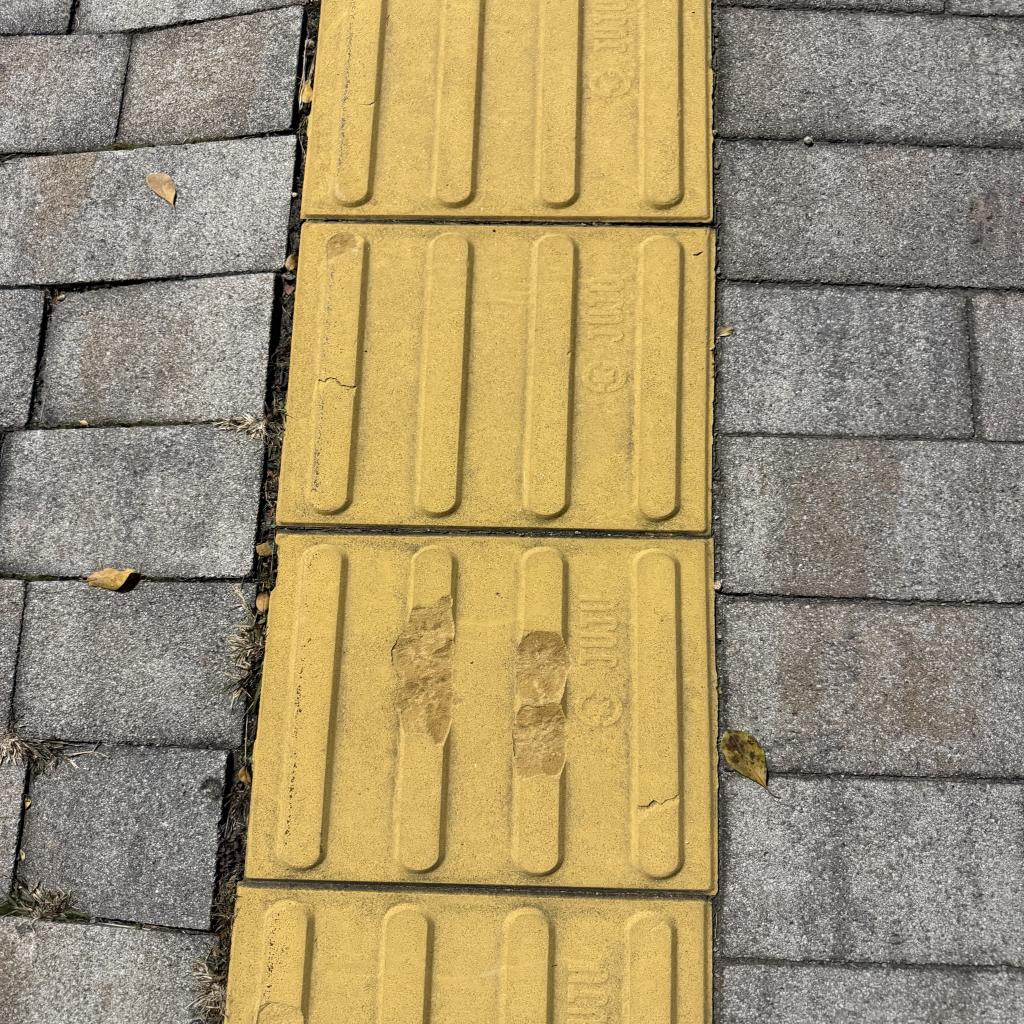Straight block broken: (247, 537, 720, 886)
Straight block normal: (280, 225, 711, 527)
